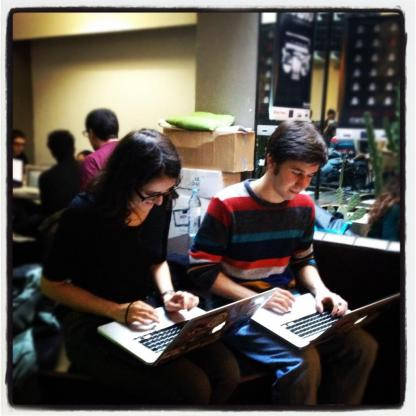board: (98, 274, 268, 364), (250, 293, 400, 350), (188, 188, 202, 244)
